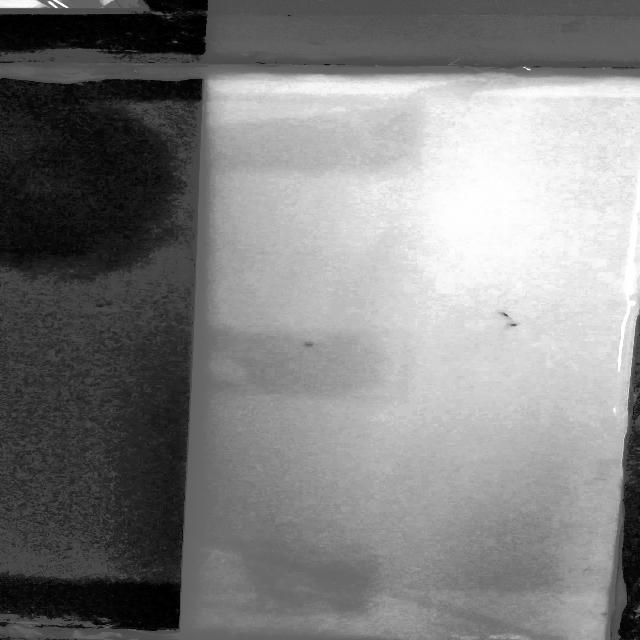shrimp: (481, 306, 526, 322), (505, 319, 537, 330)
